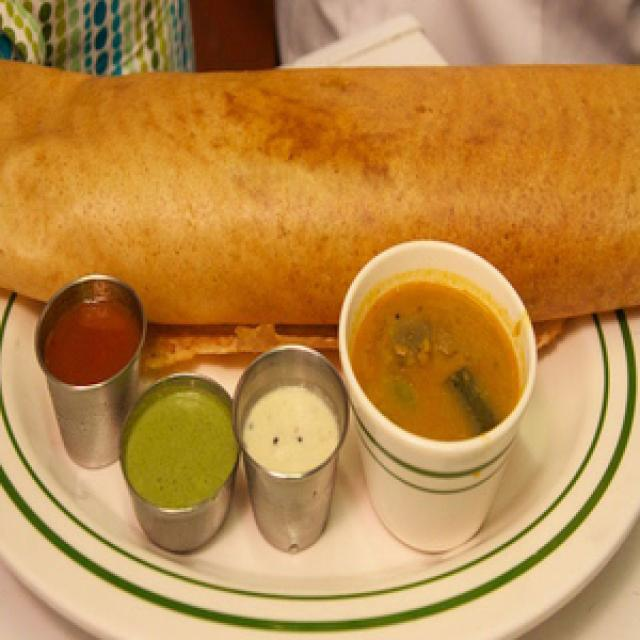dosa: (0, 41, 640, 336)
